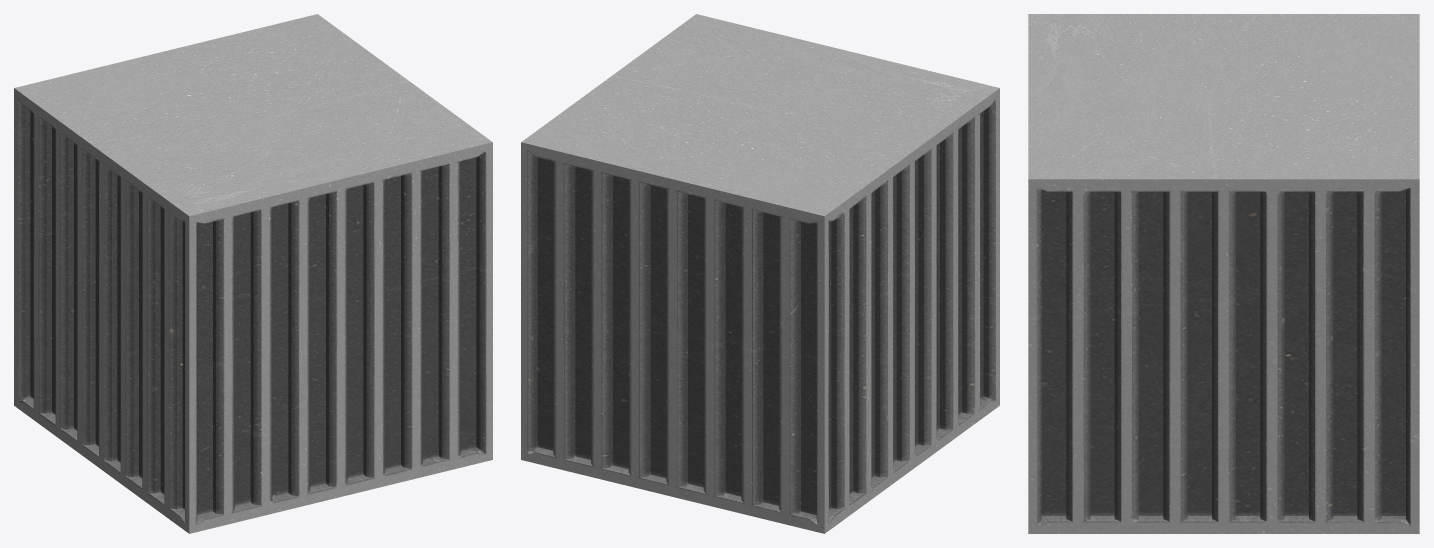
File: MetalCrate.fbx
3 views of the same model, side by side, from view 1: azimuth 30°, elevation 25°; view 2: azimuth 150°, elevation 25°; view 3: azimuth 270°, elevation 25° (orthographic). The views are drawn at different scales.
Visible parts, largest first — view 1: metalCrate; view 2: metalCrate; view 3: metalCrate.
Boxes of the visible parts, box(x1,y1,x2,y2) form: metalCrate: box(14, 14, 492, 533); metalCrate: box(521, 14, 999, 533); metalCrate: box(1028, 14, 1419, 533).
Size of the model in its own units: 100 by 100 by 100.
1 material, 1 textured.
